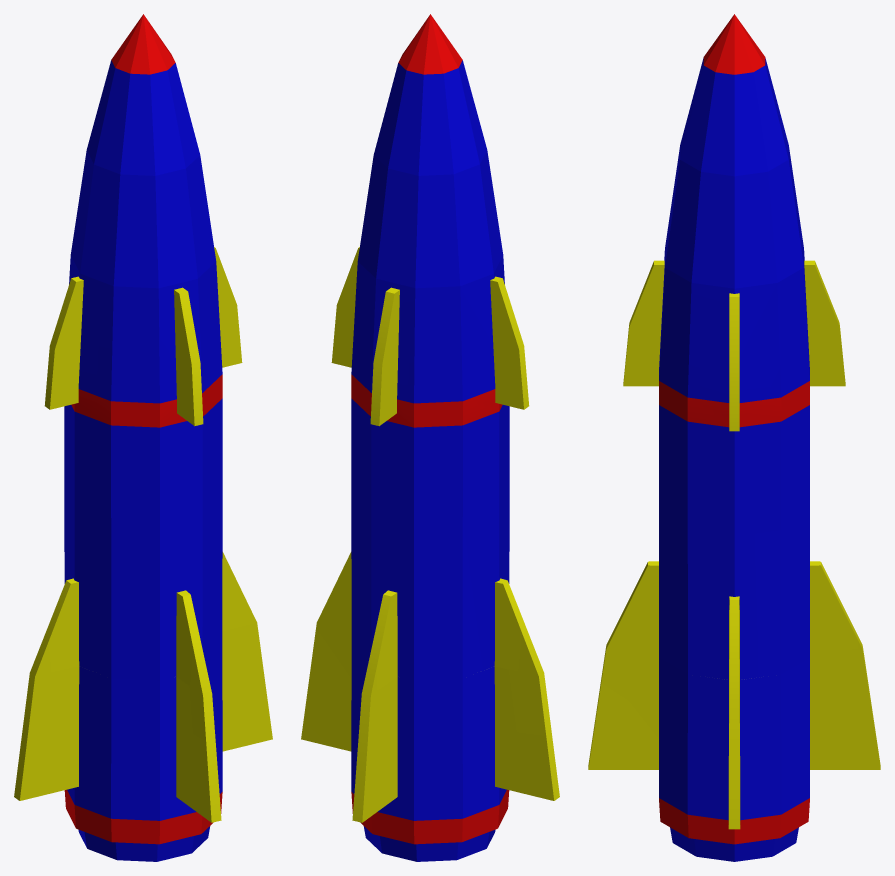
The model's file is Warhead_v2_SM.fbx.
The picture shows the model from 3 angles, left to right: view 1: azimuth 30°, elevation 25°; view 2: azimuth 150°, elevation 25°; view 3: azimuth 270°, elevation 25°; orthographic projection.
Visible parts, largest first — view 1: pCylinder5; view 2: pCylinder5; view 3: pCylinder5.
Boxes of the visible parts, bbox=[...] form: pCylinder5: bbox=[14, 14, 272, 861]; pCylinder5: bbox=[301, 14, 559, 861]; pCylinder5: bbox=[588, 14, 880, 861].
Size of the model in its own units: 43 by 133 by 43.
